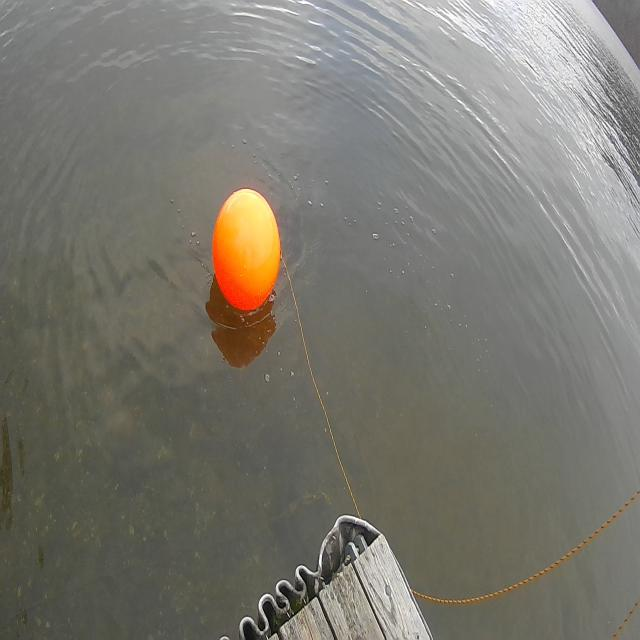Buoy: (209, 178, 286, 334)
